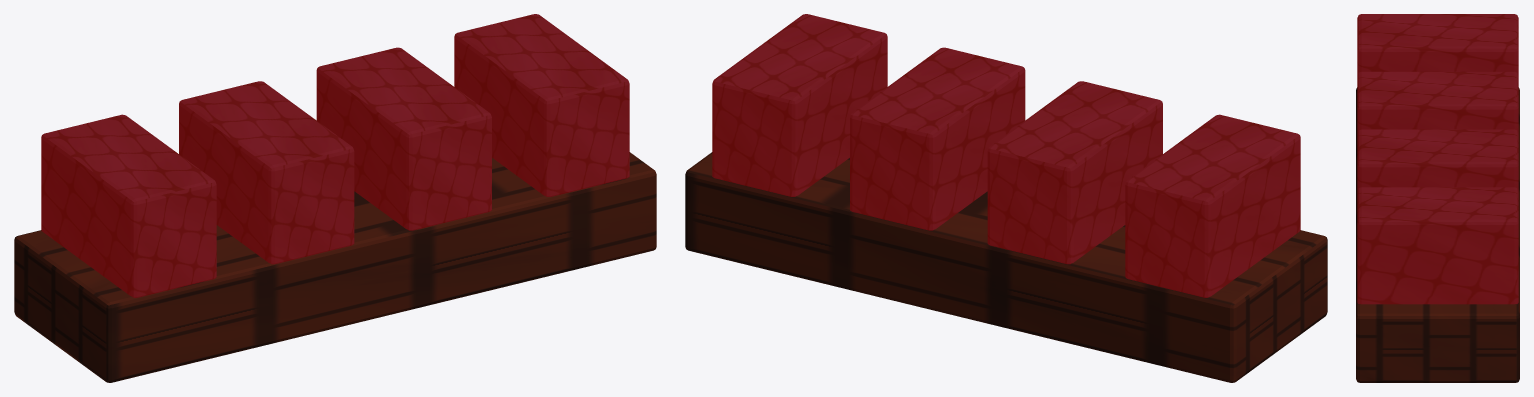
The model's file is SM_FC_Battlement_400.glb.
The picture shows the model from 3 angles, left to right: view 1: azimuth 30°, elevation 25°; view 2: azimuth 150°, elevation 25°; view 3: azimuth 270°, elevation 25°; orthographic projection. The views are drawn at different scales.
Parts seen in each view (by area): view 1: SM_FC_Battlement_400; view 2: SM_FC_Battlement_400; view 3: SM_FC_Battlement_400.
Boxes of the visible parts, left/top/right/bottom form: SM_FC_Battlement_400: left=14, top=14, right=656, bottom=382; SM_FC_Battlement_400: left=685, top=14, right=1327, bottom=382; SM_FC_Battlement_400: left=1356, top=14, right=1519, bottom=382.
Size of the model in its own units: 4 by 1.23 by 1.2.
Materials: 2 (2 with a texture image).
